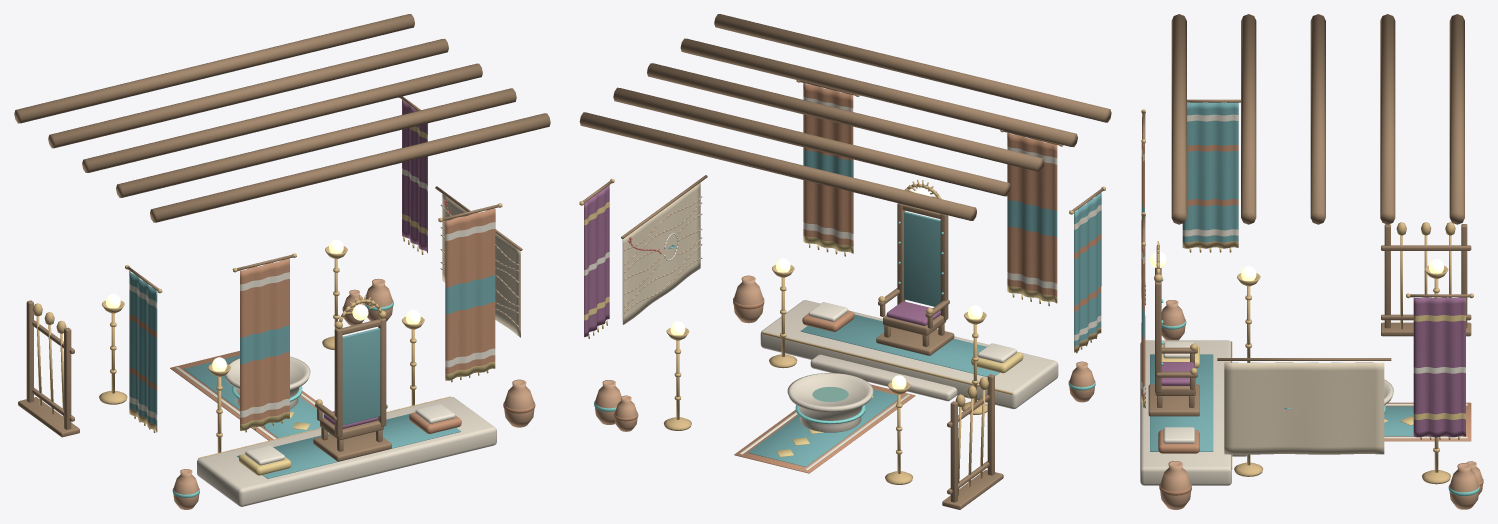
The model's file is hall.glb.
3 views of the same model, side by side, from view 1: azimuth 30°, elevation 25°; view 2: azimuth 150°, elevation 25°; view 3: azimuth 270°, elevation 25° (orthographic). The views are drawn at different scales.
Visible parts, largest first — view 1: Hall; view 2: Hall; view 3: Hall.
Boxes of the visible parts, x1=… form: Hall: x1=14, y1=14, x2=550, y2=509; Hall: x1=579, y1=14, x2=1111, y2=509; Hall: x1=1140, y1=14, x2=1483, y2=509.
Size of the model in its own units: 6.7 by 4.92 by 4.94.
